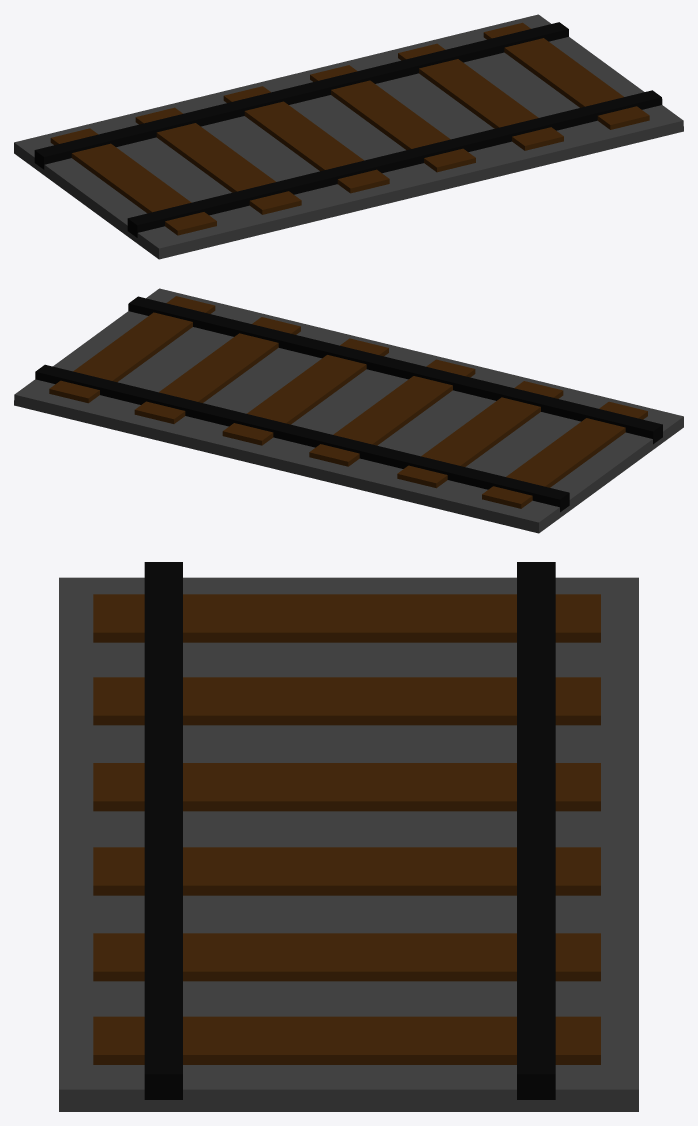
File: RailRoad.fbx
3 renders of one model, top to bottom at view 1: azimuth 30°, elevation 25°; view 2: azimuth 150°, elevation 25°; view 3: azimuth 270°, elevation 25°, orthographic. The views are drawn at different scales.
Parts seen in each view (by area): view 1: Cube.006, Cube.008, Cube.009, Cube.014, Cube.010, Cube.011, Cube.007, Cube.012, Cube.013; view 2: Cube.006, Cube.009, Cube.008, Cube.012, Cube.011, Cube.013, Cube.014, Cube.010, Cube.007; view 3: Cube.006, Cube.007, Cube.012, Cube.010, Cube.011, Cube.013, Cube.014, Cube.008, Cube.009.
Boxes of the visible parts, box(x1,y1,x2,y2) form: Cube.006: box(14, 14, 683, 259); Cube.008: box(127, 90, 662, 237); Cube.009: box(34, 22, 568, 169); Cube.014: box(483, 22, 649, 129); Cube.010: box(135, 107, 301, 214); Cube.011: box(223, 86, 389, 193); Cube.007: box(50, 128, 216, 235); Cube.012: box(310, 65, 475, 172); Cube.013: box(398, 43, 563, 150); Cube.006: box(14, 288, 683, 533); Cube.009: box(35, 364, 569, 512); Cube.008: box(128, 296, 662, 444); Cube.012: box(222, 338, 388, 445); Cube.011: box(309, 359, 475, 466); Cube.013: box(134, 317, 300, 423); Cube.014: box(49, 296, 215, 403); Cube.010: box(397, 381, 563, 488); Cube.007: box(482, 401, 647, 508); Cube.006: box(59, 577, 638, 1111); Cube.007: box(93, 594, 600, 642); Cube.012: box(93, 847, 600, 895); Cube.010: box(93, 677, 600, 725); Cube.011: box(93, 763, 600, 811); Cube.013: box(93, 933, 600, 981); Cube.014: box(93, 1016, 600, 1064); Cube.008: box(144, 562, 182, 1099); Cube.009: box(517, 562, 555, 1099).
Size of the model in its own units: 420 by 14.23 by 201.
